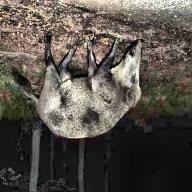boar: (11, 29, 147, 158)
